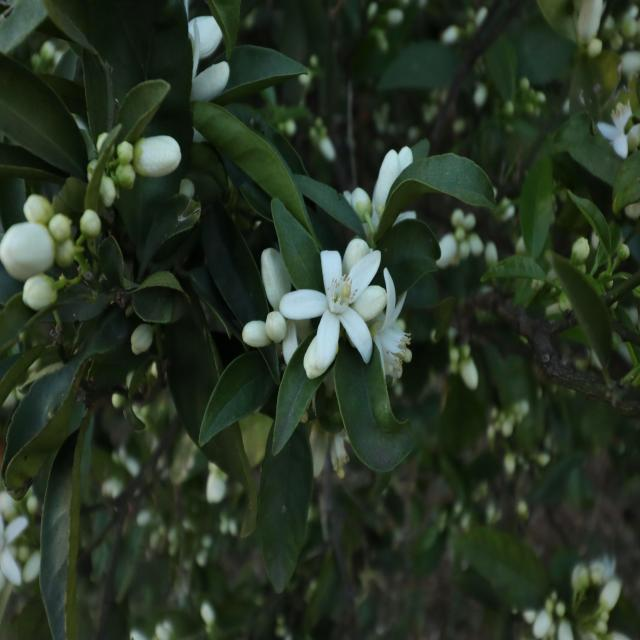Bunga: (280, 245, 381, 368), (380, 267, 413, 382), (0, 220, 58, 282), (182, 0, 224, 70), (378, 142, 412, 220), (136, 134, 180, 178), (262, 246, 292, 304), (191, 62, 231, 99), (24, 276, 59, 312), (114, 138, 136, 188), (349, 189, 374, 232), (242, 320, 272, 350), (24, 196, 53, 226), (131, 322, 154, 355), (80, 208, 102, 242), (266, 311, 288, 342), (49, 214, 72, 239), (102, 175, 117, 207)
